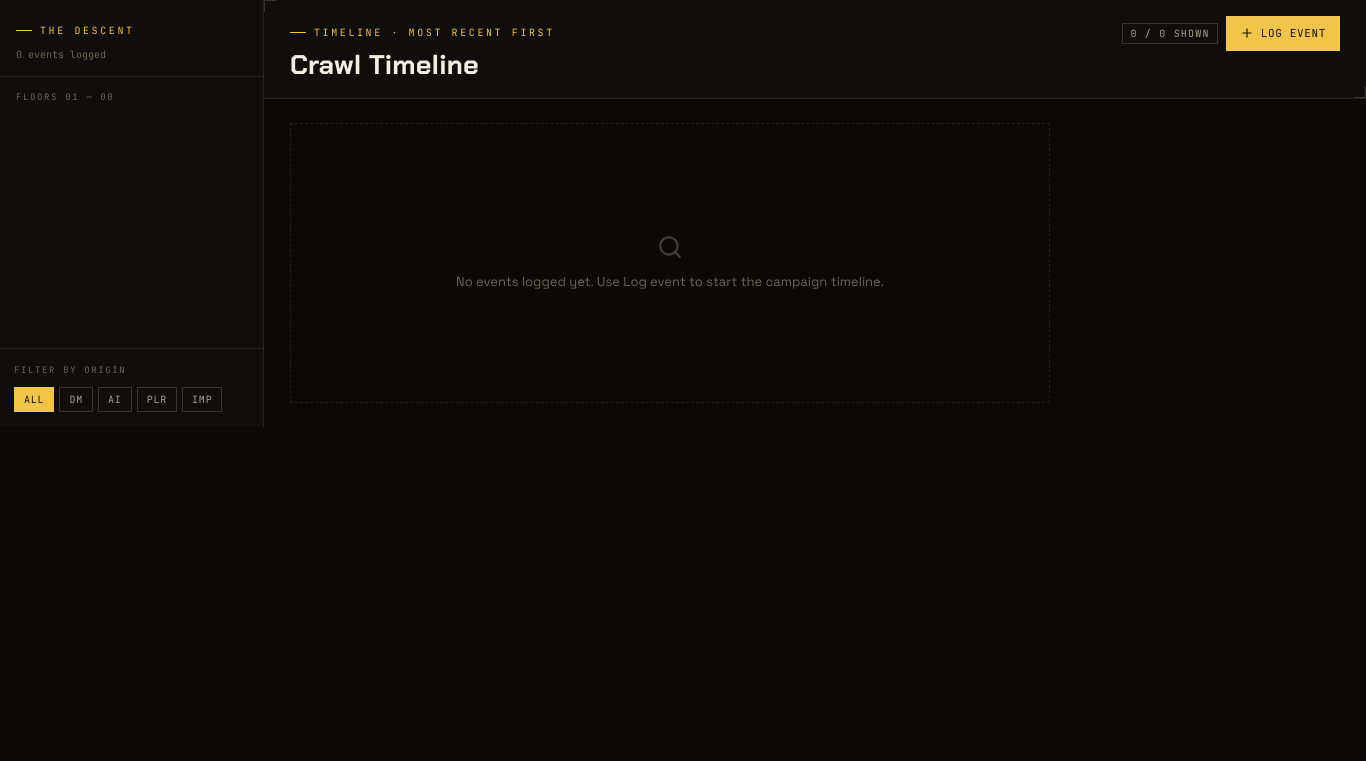
Test: CampaignTimeline › does not offer FLOOR entities as event participants (ADR 0008 §3)
Click the button "Log event". click: (1283, 33)
box: [1226,16,1340,50]
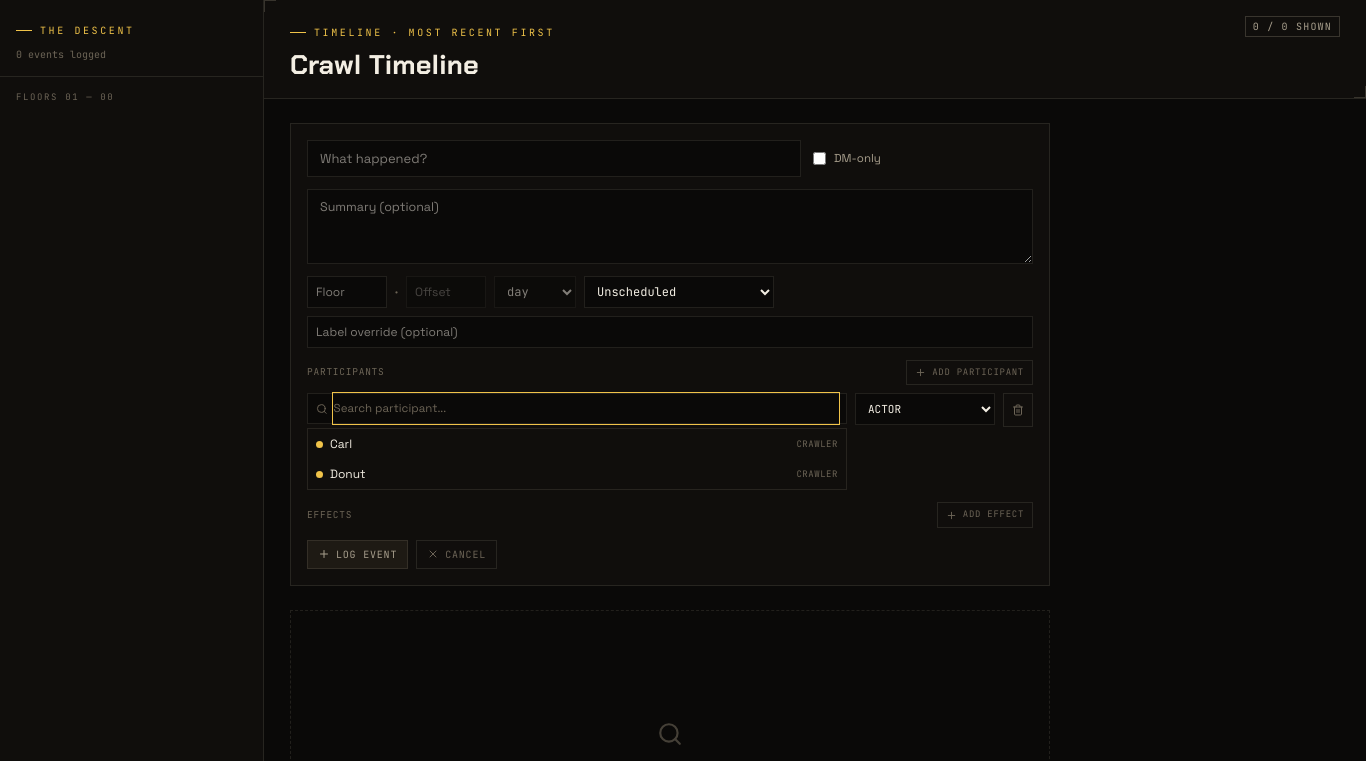
Type "Gloomdeep" into the field with placeholder "Search participant...". click: (586, 409)
box: [334,394,838,423]
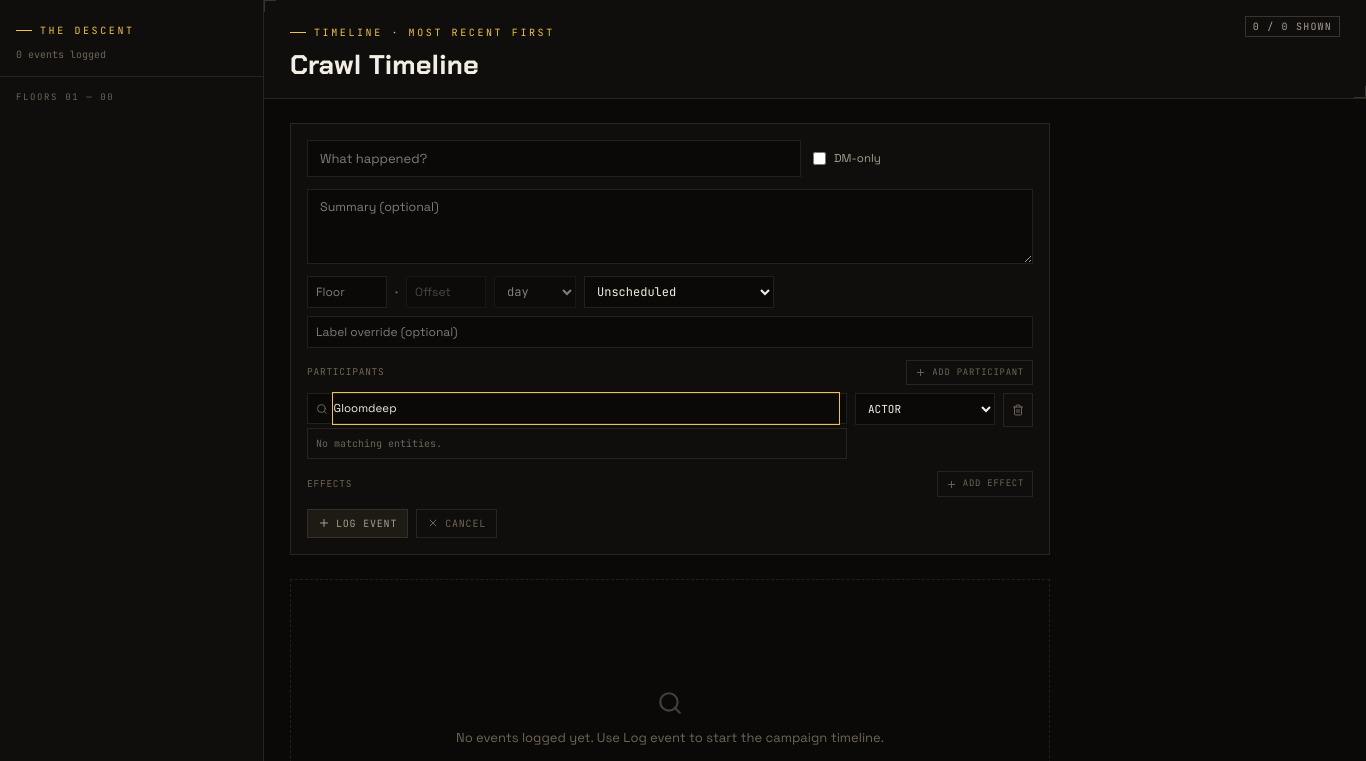
Expected: the text "No matching entities." is shown, [316,437,442,450]
